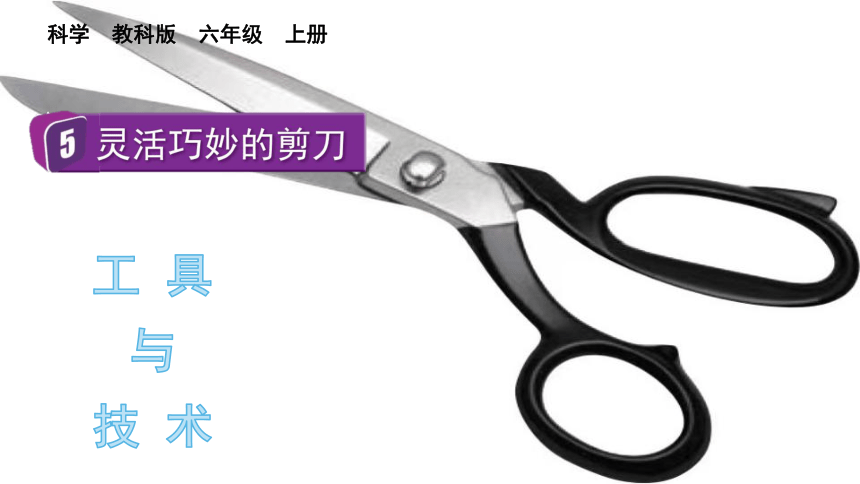scissors: (3, 1, 860, 484)
